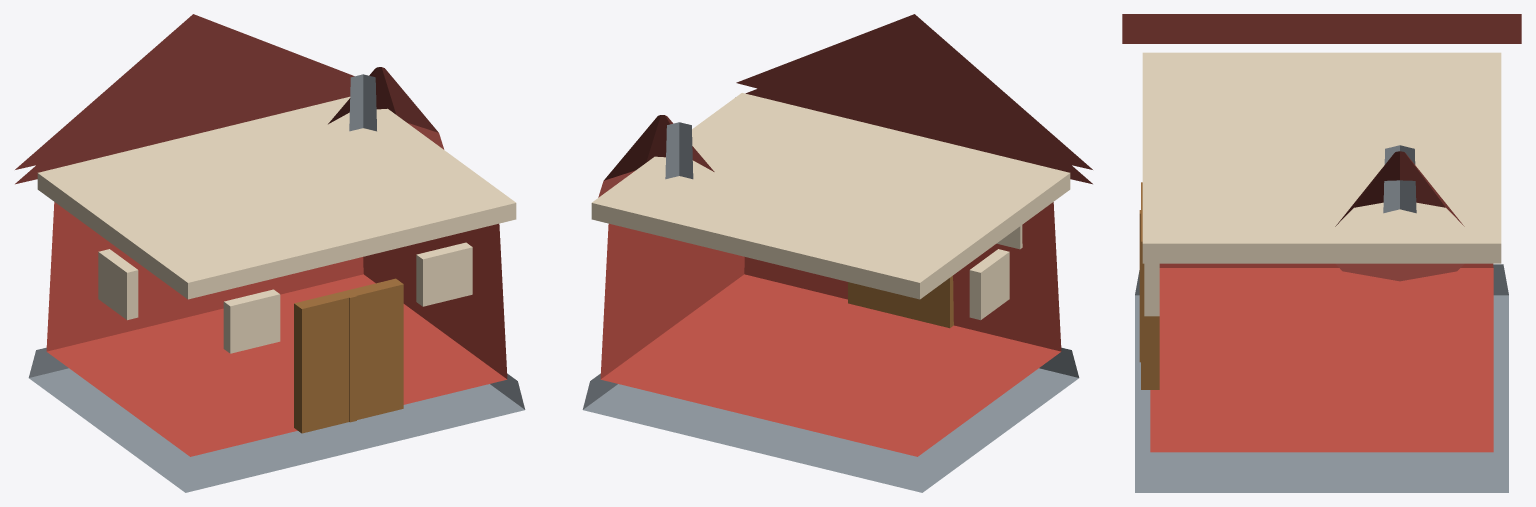
File: building_barn.glb
The picture shows the model from 3 angles, left to right: view 1: azimuth 30°, elevation 25°; view 2: azimuth 150°, elevation 25°; view 3: azimuth 270°, elevation 25°; orthographic projection. The views are drawn at different scales.
Visible parts, largest first — view 1: building_barn; view 2: building_barn; view 3: building_barn.
Part boxes in pixels (x1=…): building_barn: x1=15, y1=14, x2=525, y2=492; building_barn: x1=582, y1=14, x2=1092, y2=492; building_barn: x1=1122, y1=14, x2=1521, y2=492.
Size of the model in its own units: 3.31 by 2.7 by 2.57.
